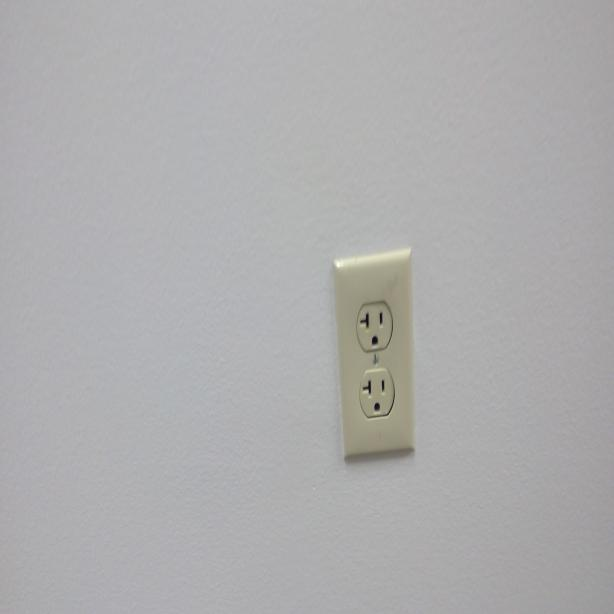typeb: (354, 299, 393, 352), (359, 369, 393, 420)
